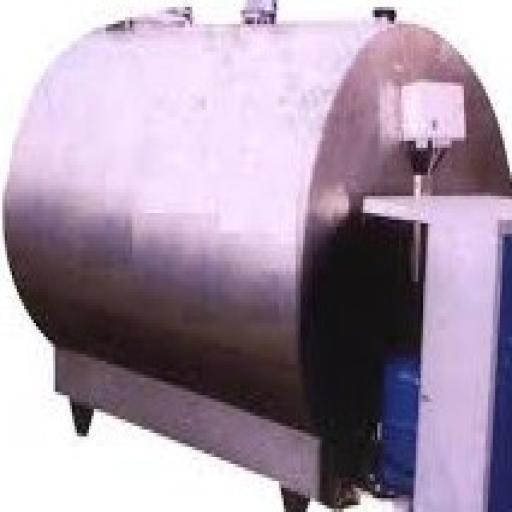silo: (2, 18, 510, 499)
